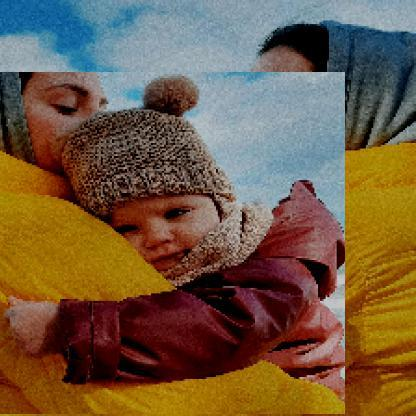child: (1, 73, 347, 416)
